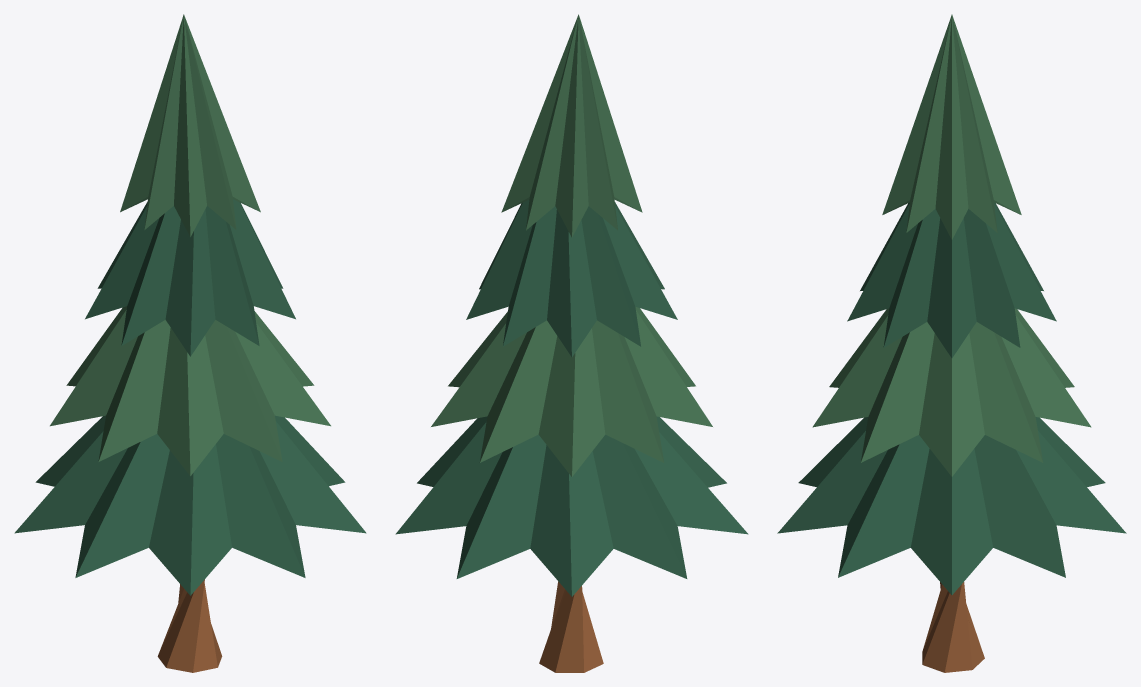
The model's file is Pine.glb.
3 renders of one model, left to right at view 1: azimuth 30°, elevation 25°; view 2: azimuth 150°, elevation 25°; view 3: azimuth 270°, elevation 25°, orthographic.
Visible parts, largest first — view 1: Serrated pine tier, Serrated pine tier.001, Serrated pine tier.002, Serrated pine tier.003, Pine trunk; view 2: Serrated pine tier, Serrated pine tier.001, Serrated pine tier.002, Serrated pine tier.003, Pine trunk; view 3: Serrated pine tier, Serrated pine tier.001, Serrated pine tier.002, Serrated pine tier.003, Pine trunk.
Boxes of the visible parts, x1=… form: Serrated pine tier: x1=14, y1=415, x2=366, y2=595; Serrated pine tier.001: x1=50, y1=306, x2=330, y2=475; Serrated pine tier.002: x1=85, y1=199, x2=295, y2=356; Serrated pine tier.003: x1=120, y1=14, x2=260, y2=236; Pine trunk: x1=157, y1=579, x2=222, y2=672; Serrated pine tier: x1=395, y1=416, x2=748, y2=596; Serrated pine tier.001: x1=431, y1=306, x2=712, y2=476; Serrated pine tier.002: x1=466, y1=200, x2=677, y2=356; Serrated pine tier.003: x1=501, y1=14, x2=642, y2=237; Pine trunk: x1=539, y1=581, x2=603, y2=672; Serrated pine tier: x1=777, y1=417, x2=1126, y2=594; Serrated pine tier.001: x1=812, y1=308, x2=1091, y2=476; Serrated pine tier.002: x1=847, y1=202, x2=1056, y2=357; Serrated pine tier.003: x1=882, y1=14, x2=1021, y2=239; Pine trunk: x1=922, y1=582, x2=984, y2=672.
Bounding box in the file's own units: 6.79 × 13.97 × 6.89.
